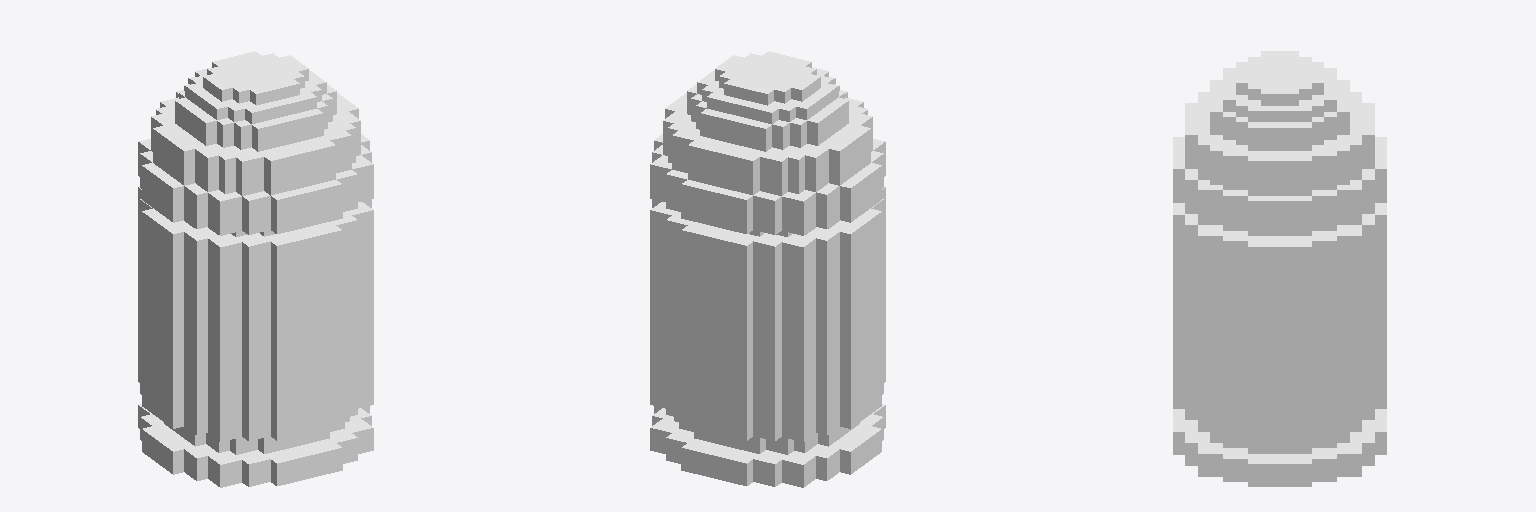
File: Bullet.obj
The picture shows the model from 3 angles: view 1: azimuth 30°, elevation 25°; view 2: azimuth 150°, elevation 25°; view 3: azimuth 270°, elevation 25°; orthographic projection.
Visible parts, largest first — view 1: object 1; view 2: object 1; view 3: object 1.
Boxes of the visible parts, x1=… form: object 1: x1=138, y1=51, x2=373, y2=487; object 1: x1=650, y1=51, x2=885, y2=487; object 1: x1=1173, y1=51, x2=1386, y2=486.
Bounding box in the file's own units: 1.8 × 3.2 × 1.7.